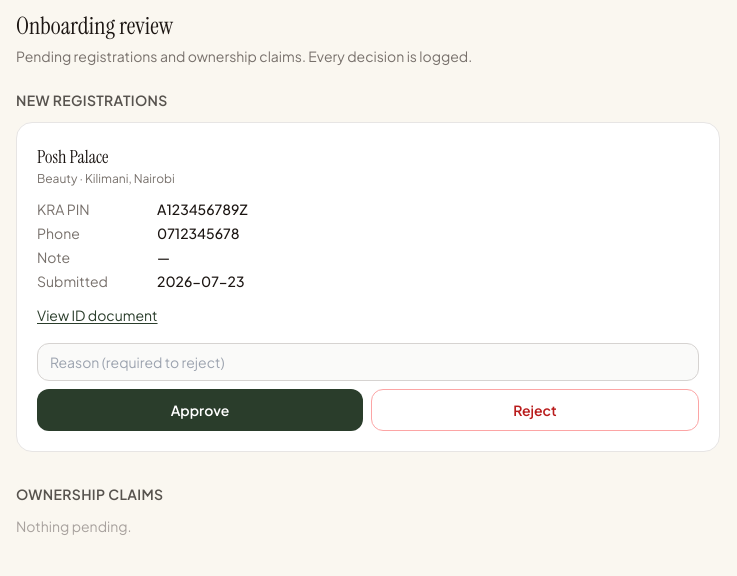
Test: staff: reject without a reason is blocked client-side
Click the button "Reject": [535, 410] box [371,389,699,431]
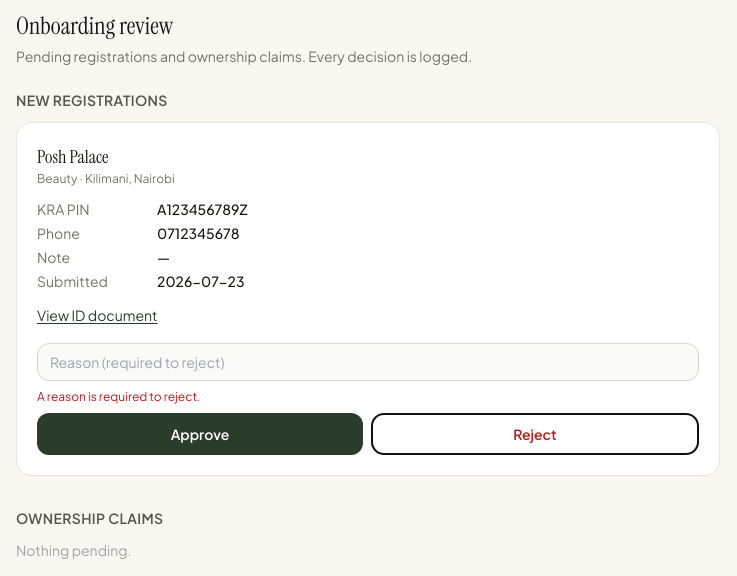
expect the text "A reason is required to reject." is shown: met, box [37,389,200,404]
